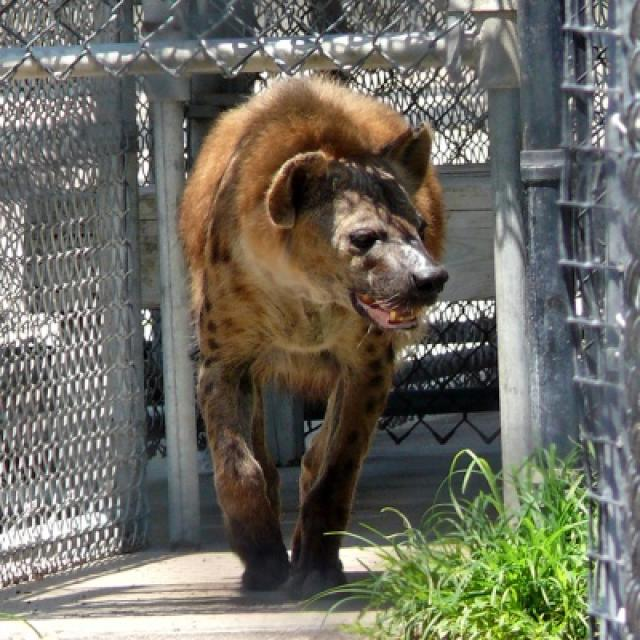hyena: (178, 77, 450, 605)
